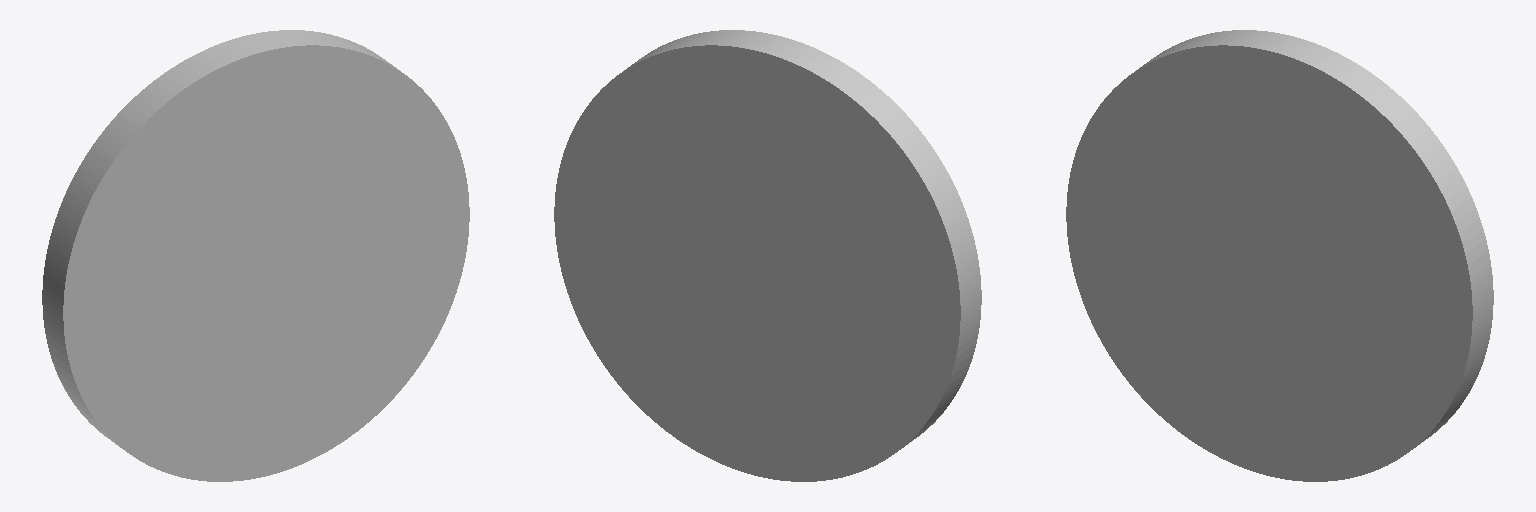
The model's file is slicing.obj.
3 views of the same model, side by side, from view 1: azimuth 30°, elevation 25°; view 2: azimuth 150°, elevation 25°; view 3: azimuth 330°, elevation 25° (orthographic).
Bounding box in the file's own units: 43.31 × 43.31 × 3.87.